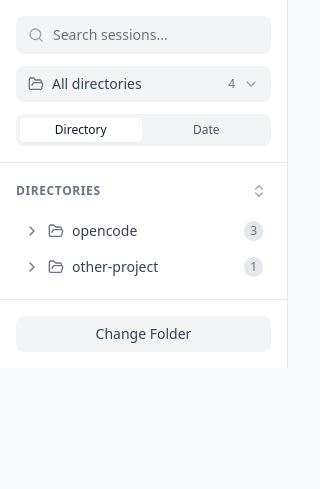
Test case: SessionBrowser › expand/collapse › maintains expand state independently for each directory
# Expand opencode
Click the button with aria-label "Expand opencode" at x=144, y=231, box top-left (16, 215), bottom-right (271, 247)
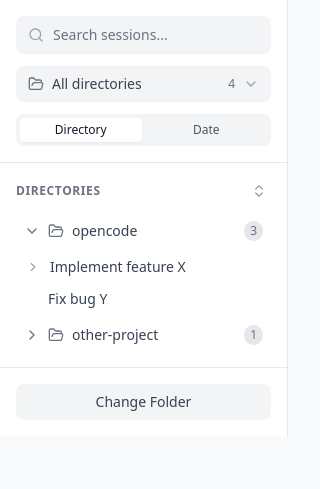
Expected: the text "Refactor code" is not shown
Expected: the text "Implement feature X" is shown, top-left (50, 257), bottom-right (186, 276)
# Expand other-project
Click the button with aria-label "Expand other-project" at x=144, y=335, box top-left (16, 319), bottom-right (271, 351)
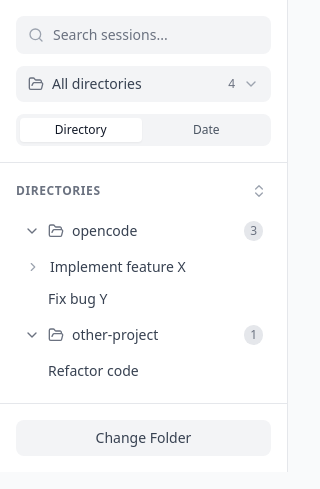
Expected: the text "Implement feature X" is shown, top-left (50, 257), bottom-right (186, 276)
Expected: the text "Refactor code" is shown, top-left (48, 361), bottom-right (139, 380)
